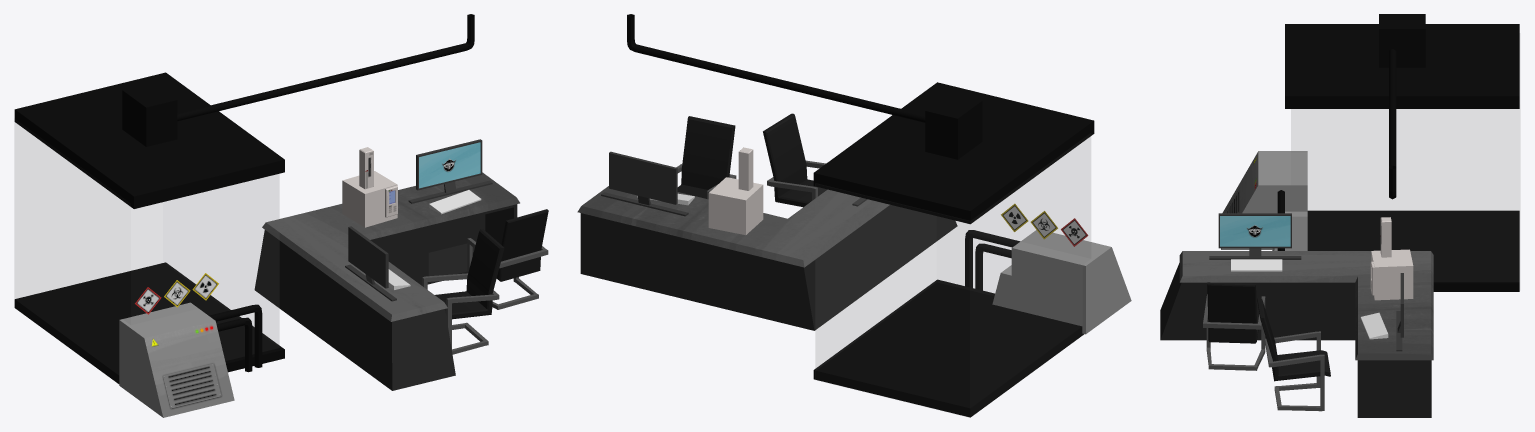
The model's file is TestRoomInterior.FBX.
The picture shows the model from 3 angles, left to right: view 1: azimuth 30°, elevation 25°; view 2: azimuth 150°, elevation 25°; view 3: azimuth 270°, elevation 25°; orthographic projection. The views are drawn at different scales.
Visible parts, largest first — view 1: Desk_001, TestChamber_001, TestChamberBase_002, TestChamberBase_001, VentUnit_01, OfficeChair_001, OfficeChair_002, ChemistryEquipment_001, Monitor_001, Pipe_01, Monitor_002, Pipe_02 (+2 smaller); view 2: Desk_001, TestChamber_001, TestChamberBase_002, TestChamberBase_001, VentUnit_01, OfficeChair_002, OfficeChair_001, ChemistryEquipment_001, Monitor_001, Pipe_01, Pipe_02, Pipe_03; view 3: Desk_001, TestChamber_001, TestChamberBase_002, TestChamberBase_001, VentUnit_01, OfficeChair_001, OfficeChair_002, Monitor_002, ChemistryEquipment_001, Pipe_01, Keyboard_002, Keyboard_001 (+1 smaller).
Part boxes in pixels (x1,y1,x2,y2): Desk_001: (254, 172, 519, 390); TestChamber_001: (15, 123, 278, 346); TestChamberBase_002: (14, 72, 284, 208); TestChamberBase_001: (14, 262, 284, 383); VentUnit_01: (119, 302, 234, 417); OfficeChair_001: (422, 229, 504, 354); OfficeChair_002: (467, 209, 548, 309); ChemistryEquipment_001: (342, 147, 397, 227); Monitor_001: (408, 139, 492, 203); Pipe_01: (177, 14, 474, 121); Monitor_002: (345, 226, 396, 301); Pipe_02: (209, 304, 262, 367); Desk_001: (577, 186, 957, 330); TestChamber_001: (816, 137, 1090, 414); TestChamberBase_002: (813, 82, 1094, 224); TestChamberBase_001: (813, 279, 1084, 417); VentUnit_01: (992, 230, 1131, 334); OfficeChair_002: (676, 116, 736, 199); OfficeChair_001: (763, 113, 827, 207); ChemistryEquipment_001: (708, 147, 763, 235); Monitor_001: (601, 151, 688, 216); Pipe_01: (627, 14, 925, 122); Pipe_02: (965, 230, 1020, 287); Pipe_03: (975, 243, 1011, 290); Desk_001: (1160, 251, 1433, 417); TestChamber_001: (1291, 109, 1519, 210); TestChamberBase_002: (1285, 14, 1519, 108); TestChamberBase_001: (1307, 210, 1519, 291); VentUnit_01: (1221, 151, 1307, 250); OfficeChair_001: (1203, 282, 1265, 370); OfficeChair_002: (1257, 297, 1330, 411); Monitor_002: (1209, 213, 1301, 259); ChemistryEquipment_001: (1370, 217, 1413, 300); Pipe_01: (1389, 49, 1396, 199); Keyboard_002: (1231, 259, 1282, 271); Keyboard_001: (1360, 312, 1388, 339).
Bounding box in the file's own units: 342 × 189 × 255.
10 materials, 8 textured.
